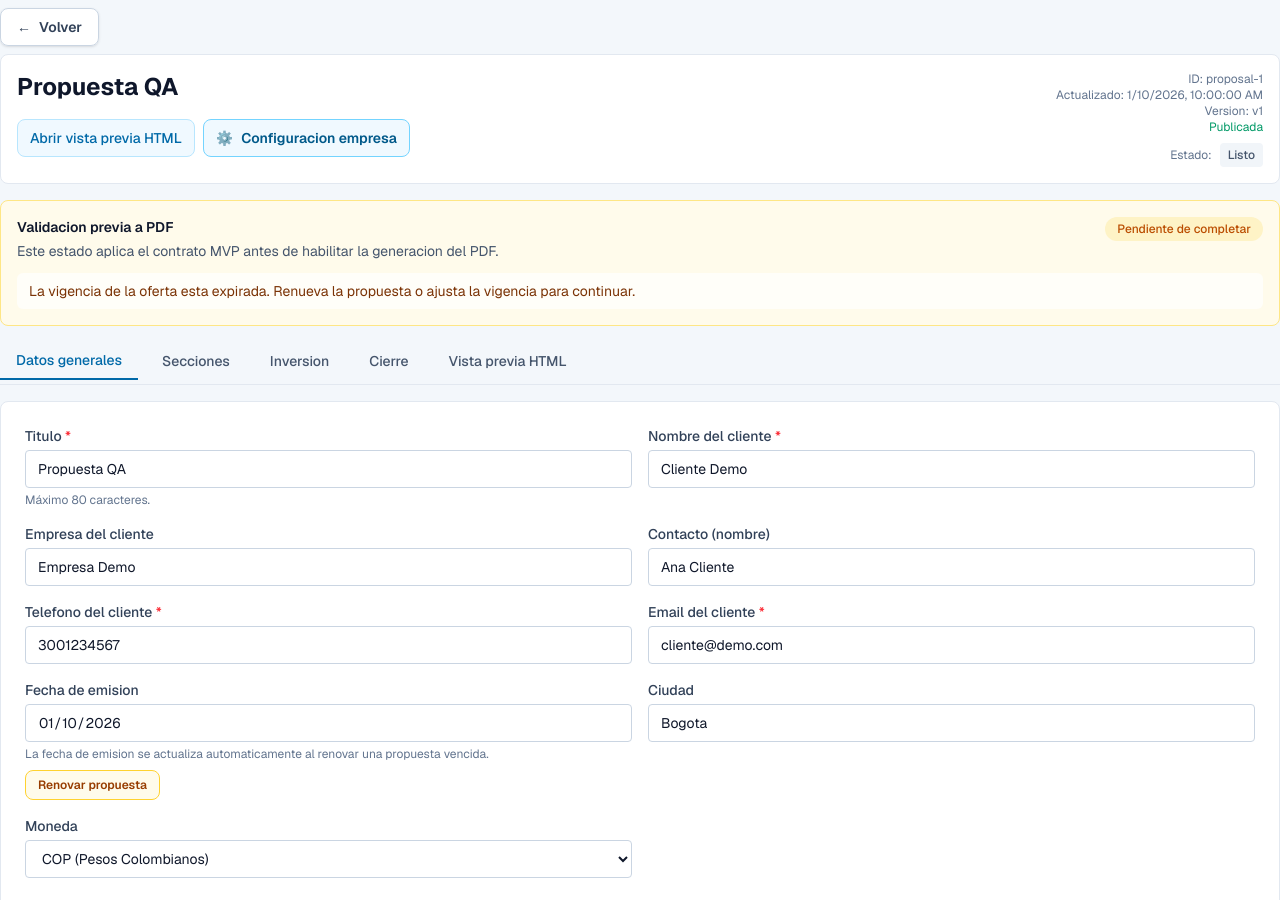
ProposalEditor › opens and closes company settings modal
Expected: the heading "Propuesta QA" is shown, [17,71,178,102]
Click the button "⚙️ Configuracion empresa". click: (306, 138)
box: [203,119,410,157]
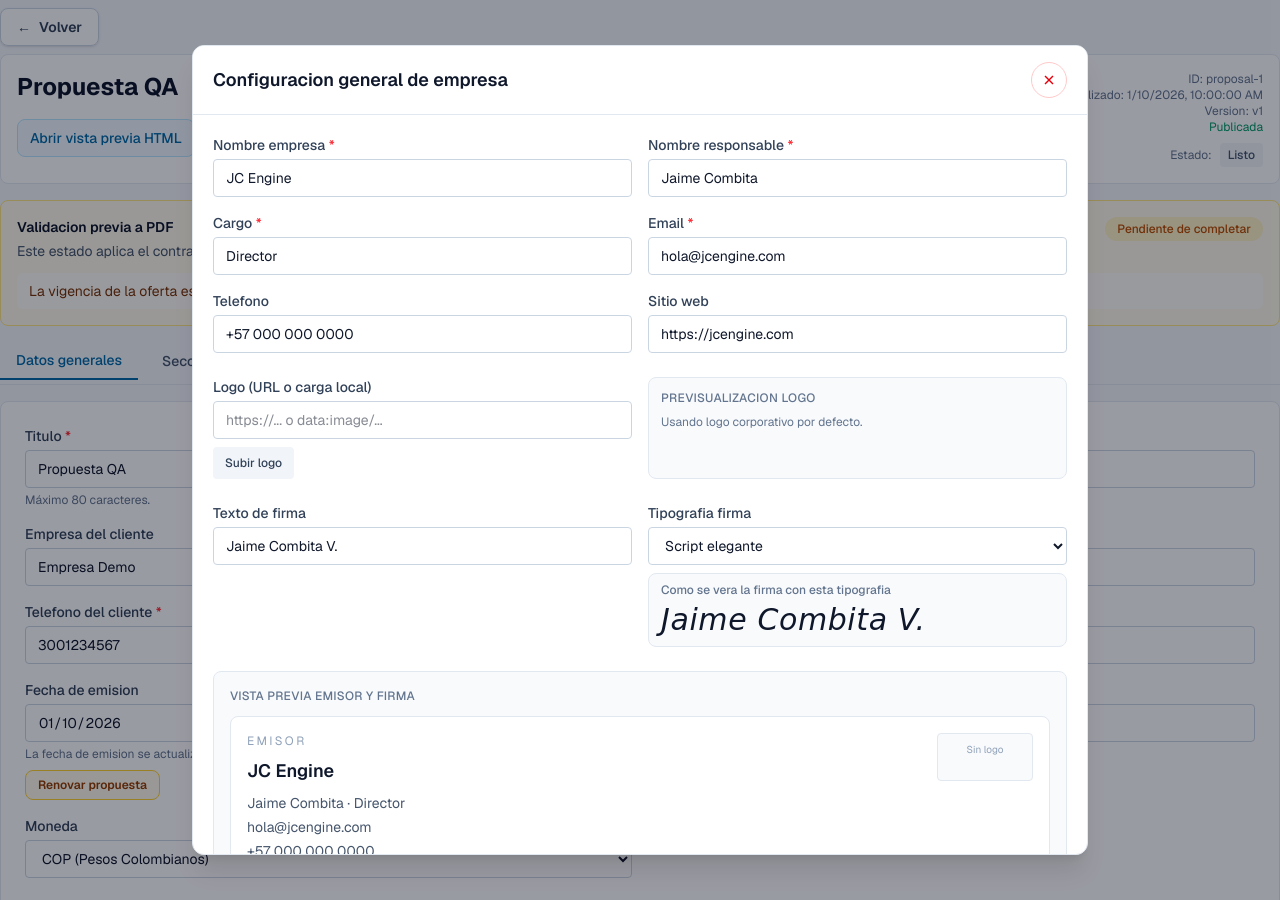
Now the heading "Configuracion general de empresa" is shown, box [213,66,508,94]
Click the button named "Cerrar". click: (1049, 80)
box: [1031,62,1067,98]
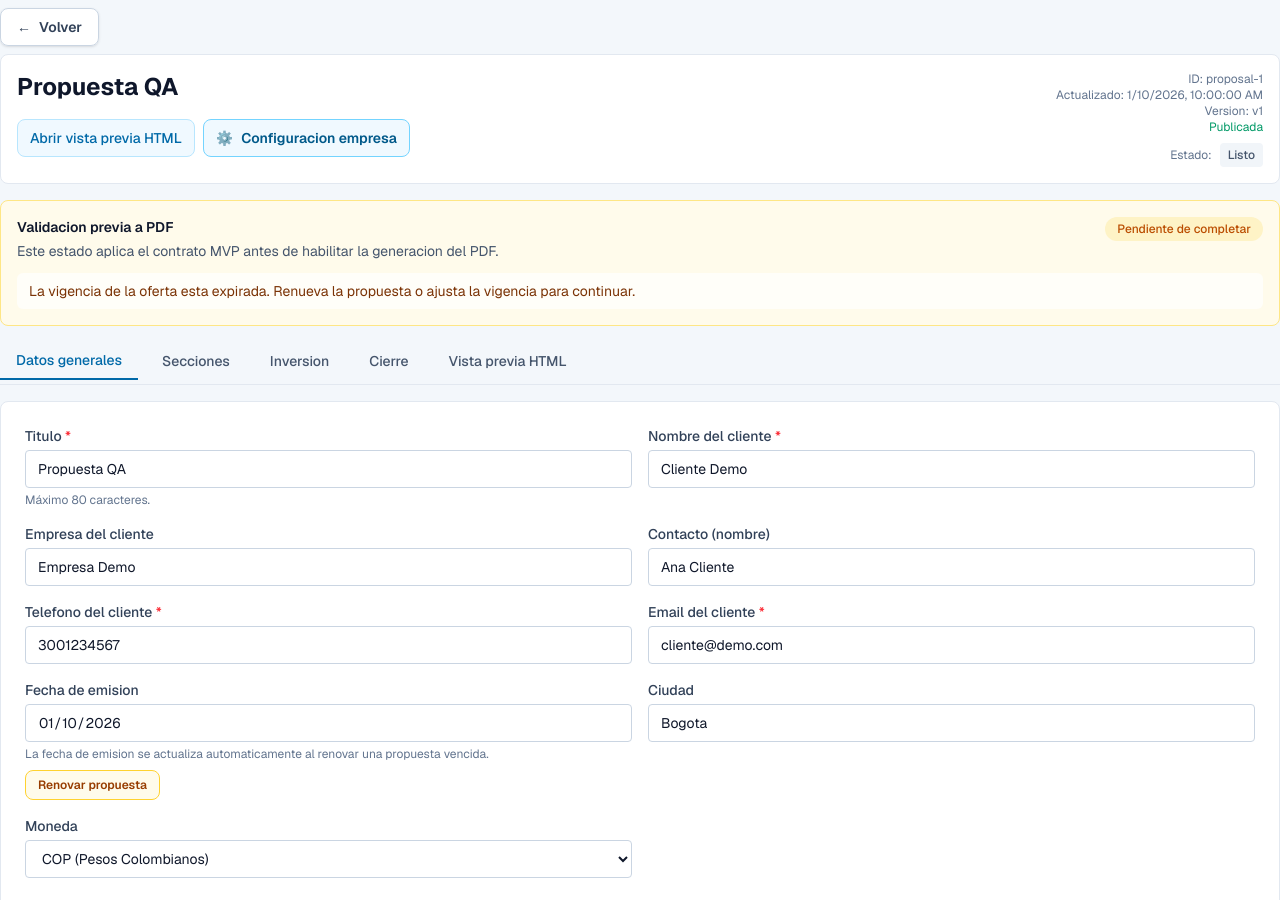
Now the heading "Configuracion general de empresa" is gone
